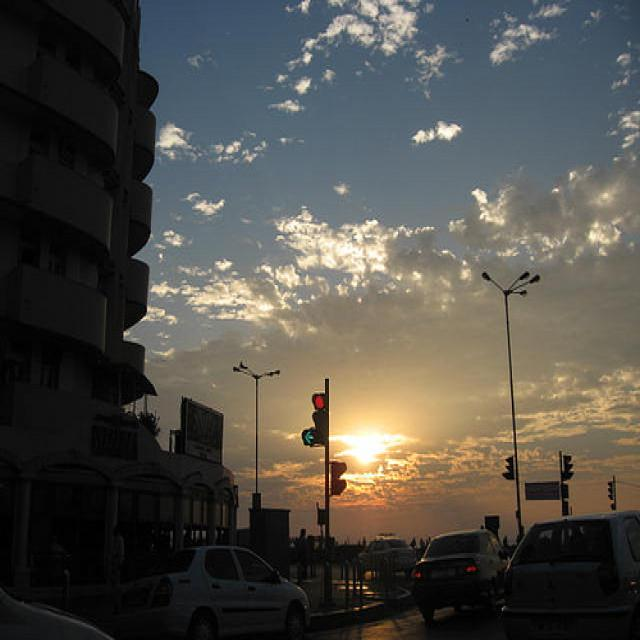Vehicle: (500, 511, 639, 632), (166, 546, 310, 640), (412, 530, 512, 626)
